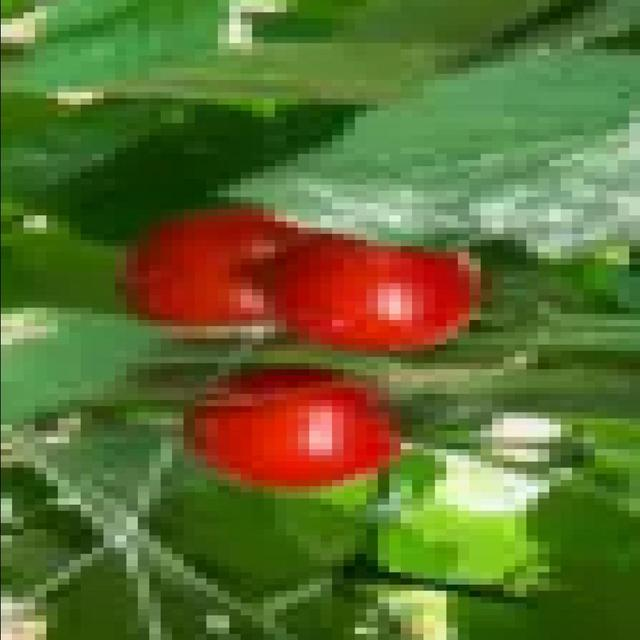Healthy Fruit: (128, 69, 254, 286)
